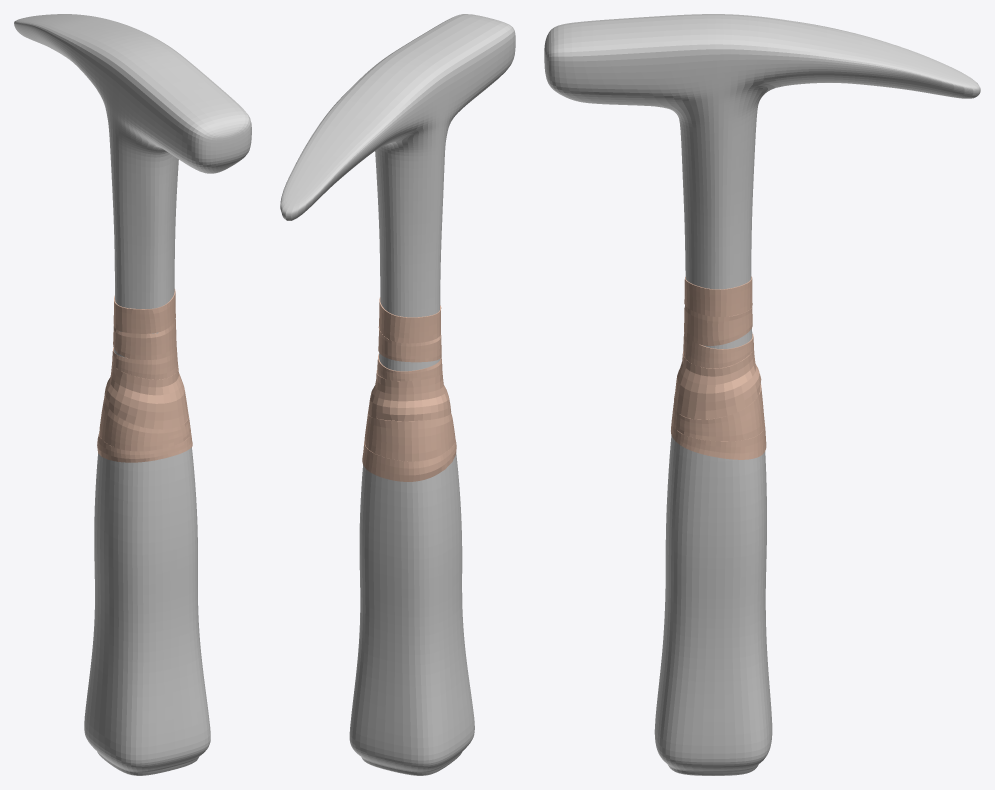
Rendered from Pickaxe.fbx.
3 views of the same model, side by side, from view 1: azimuth 30°, elevation 25°; view 2: azimuth 150°, elevation 25°; view 3: azimuth 270°, elevation 25° (orthographic). The views are drawn at different scales.
Visible parts, largest first — view 1: Pickaxe, Tape; view 2: Pickaxe, Tape; view 3: Pickaxe, Tape.
Boxes of the visible parts, x1,y1,x2,y2 form: Pickaxe: (14,14,251,775); Tape: (97,289,192,462); Pickaxe: (280,14,515,775); Tape: (362,297,456,481); Pickaxe: (544,14,980,775); Tape: (671,276,766,459).
Bounding box in the file's own units: 67.66 × 467 × 251.
